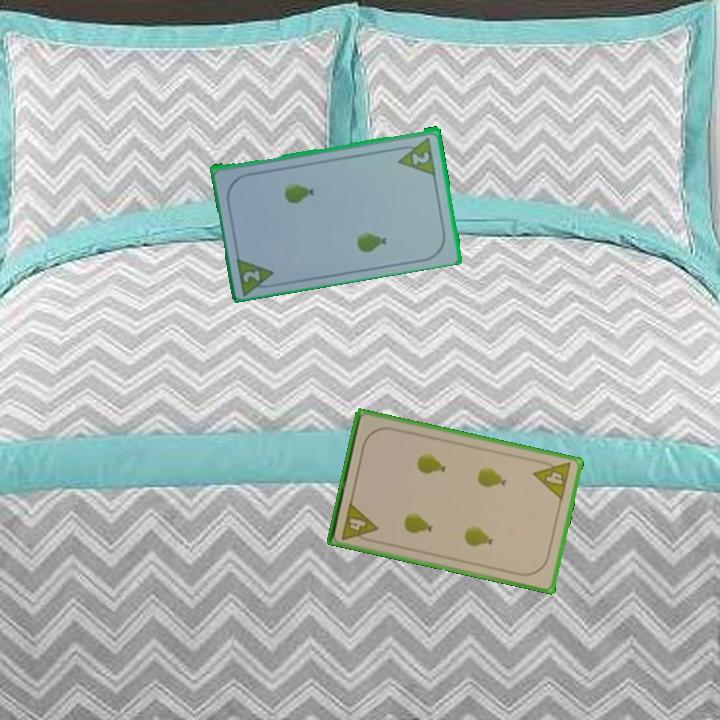2p: (409, 147, 433, 167), (239, 266, 263, 285)
4p: (530, 456, 574, 503), (338, 498, 380, 545)
